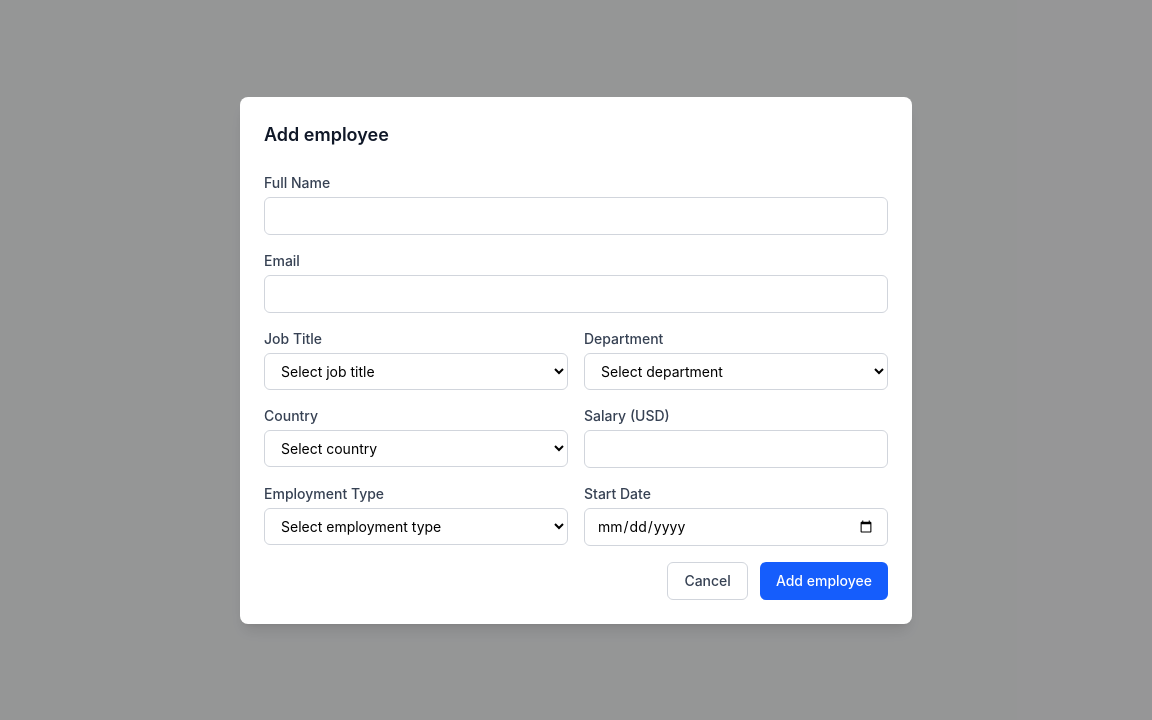
Scenario: EmployeeForm › shows validation error for invalid email format
Type "invalid-email" into the field labelled "Email".
click(576, 294); type("invalid-email")  # box [264, 274, 888, 312]
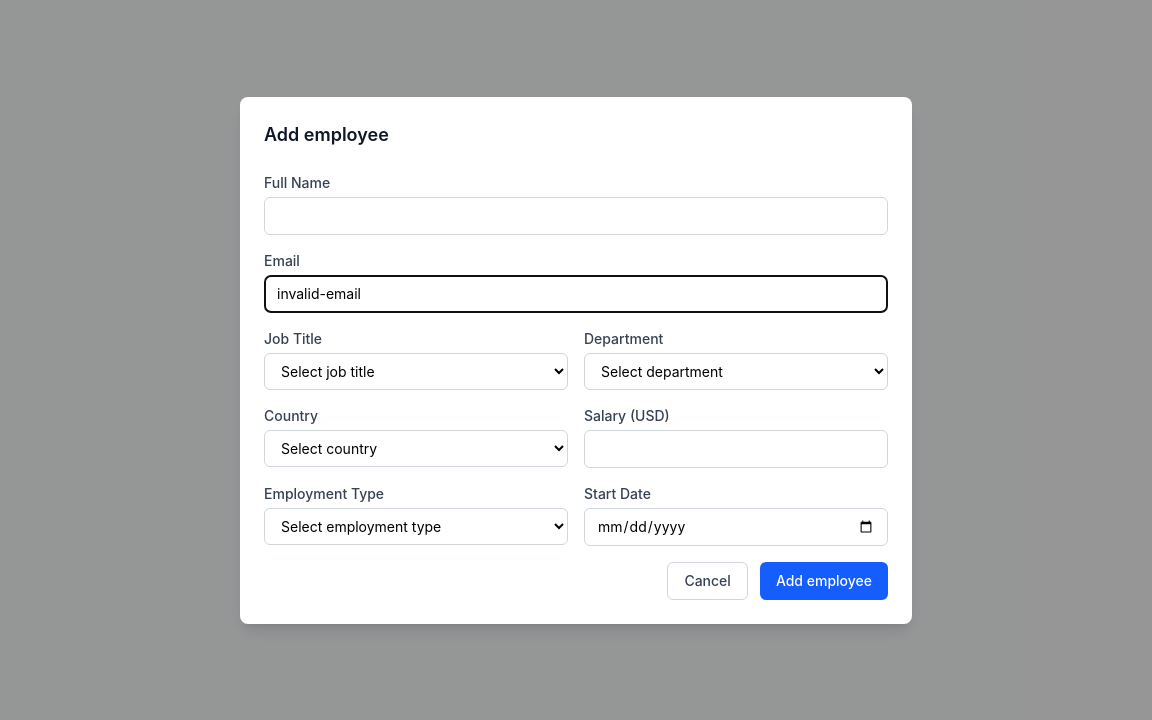
Click the button "Add employee".
click(824, 580)  # box [760, 562, 888, 600]
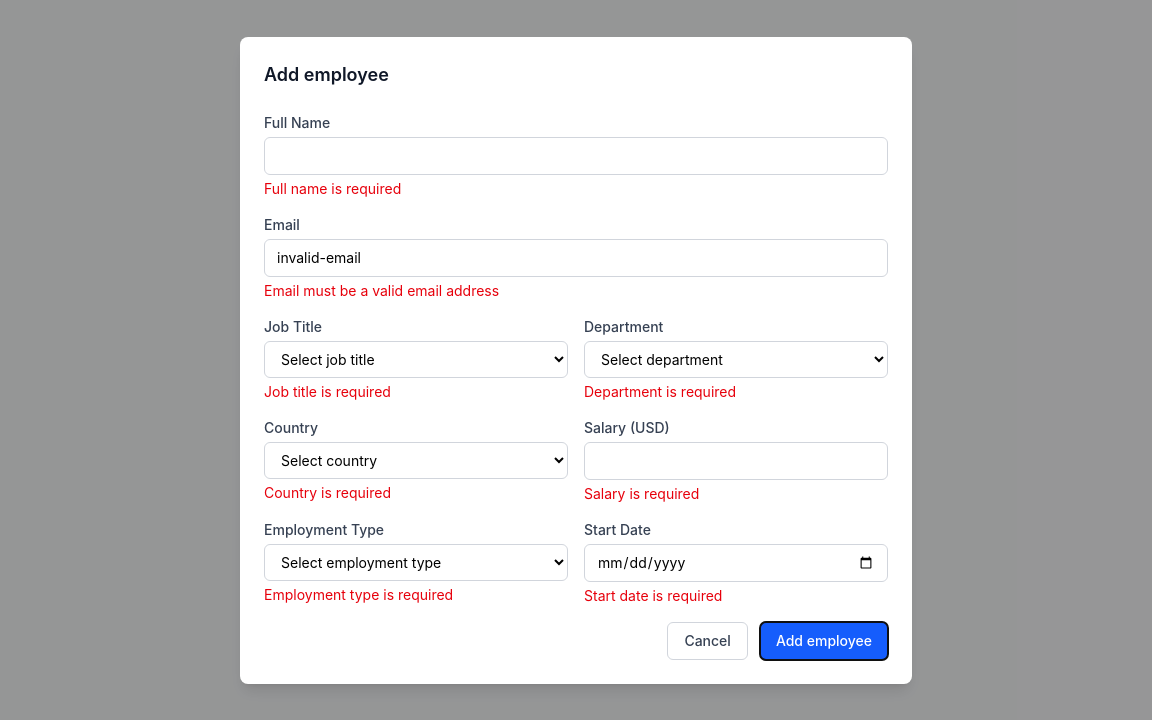
Check: the text "Email must be a valid email address" is shown, box [264, 282, 499, 298]
